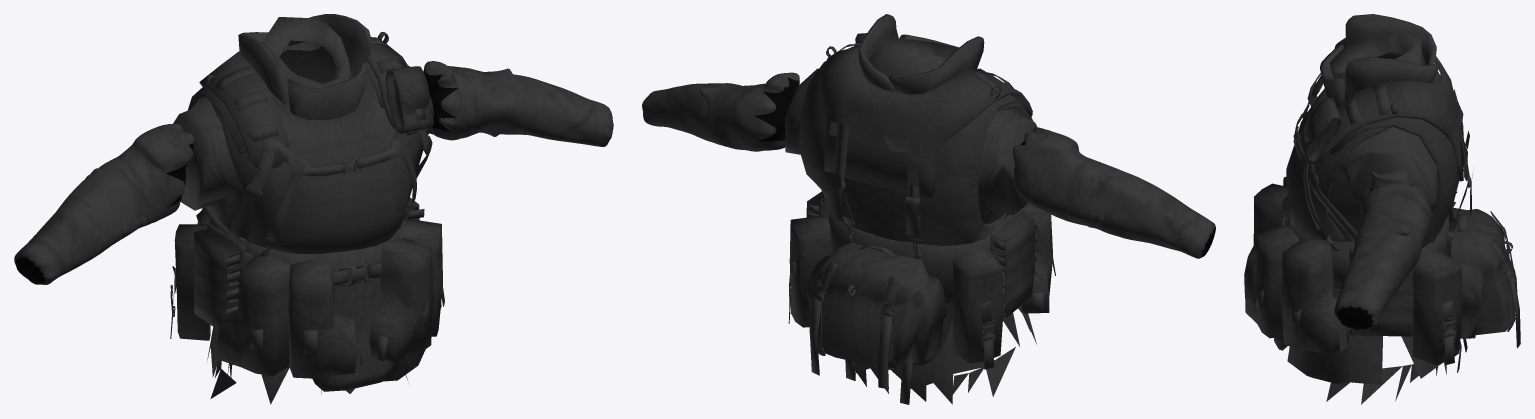
File: weapon-sleeves.glb
3 views of the same model, side by side, from view 1: azimuth 30°, elevation 25°; view 2: azimuth 150°, elevation 25°; view 3: azimuth 270°, elevation 25° (orthographic). The views are drawn at different scales.
Parts seen in each view (by area): view 1: rig_spine, rig_elbow_r, rig_shoulder_r, rig_shoulder_l, rig_elbow_l; view 2: rig_spine, rig_shoulder_r, rig_elbow_r, rig_shoulder_l, rig_elbow_l; view 3: rig_spine, rig_elbow_l, rig_shoulder_l.
Part boxes in pixels (x1=…): rig_spine: x1=170, y1=14, x2=444, y2=404; rig_elbow_r: x1=14, y1=168, x2=146, y2=284; rig_shoulder_r: x1=85, y1=123, x2=194, y2=235; rig_shoulder_l: x1=423, y1=61, x2=525, y2=140; rig_elbow_l: x1=479, y1=74, x2=613, y2=146; rig_spine: x1=785, y1=14, x2=1055, y2=404; rig_shoulder_r: x1=1013, y1=127, x2=1125, y2=225; rig_elbow_r: x1=1087, y1=169, x2=1215, y2=258; rig_shoulder_l: x1=700, y1=72, x2=799, y2=151; rig_elbow_l: x1=642, y1=83, x2=727, y2=146; rig_spine: x1=1244, y1=14, x2=1520, y2=404; rig_elbow_l: x1=1334, y1=225, x2=1421, y2=330; rig_shoulder_l: x1=1354, y1=169, x2=1431, y2=253.
Size of the model in its own units: 1.24 by 0.7112 by 0.5351.
2 materials, 2 textured.
